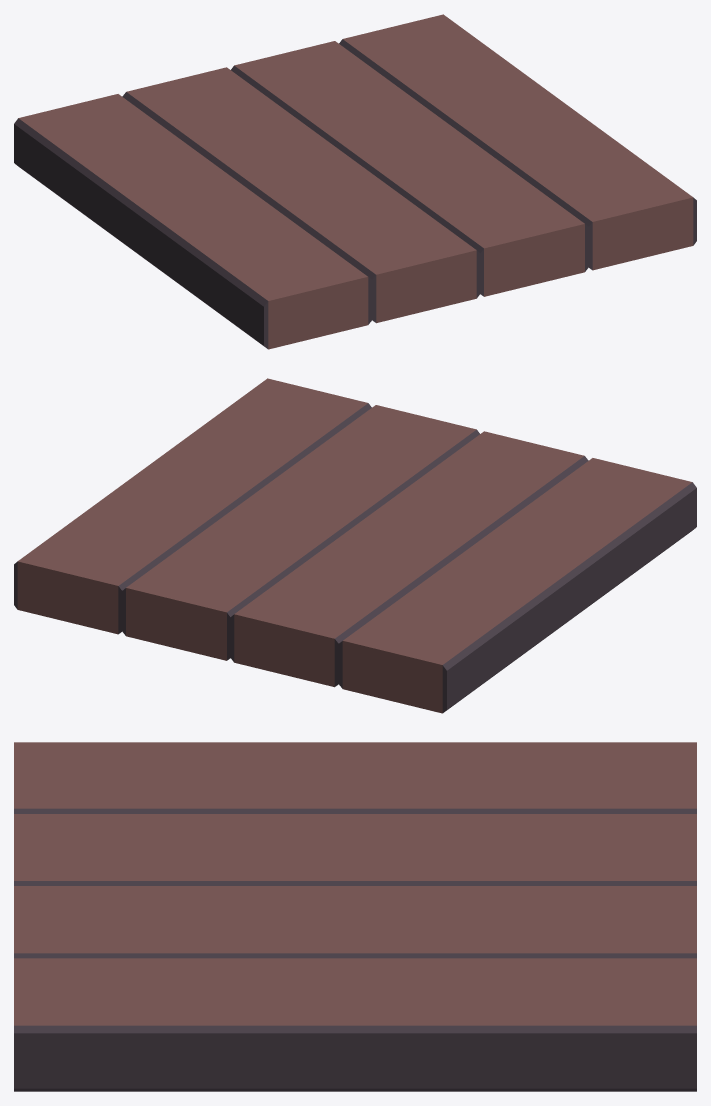
Rendered from Planks Quarter.fbx.
3 views of the same model, one above another, from view 1: azimuth 30°, elevation 25°; view 2: azimuth 150°, elevation 25°; view 3: azimuth 270°, elevation 25° (orthographic). The views are drawn at different scales.
Parts seen in each view (by area): view 1: Planks Quarter; view 2: Planks Quarter; view 3: Planks Quarter.
Boxes of the visible parts, x1,y1,x2,y2 form: Planks Quarter: (14, 14, 696, 349); Planks Quarter: (14, 378, 696, 713); Planks Quarter: (14, 742, 696, 1091).
Bounding box in the file's own units: 300 × 32.08 × 300.
